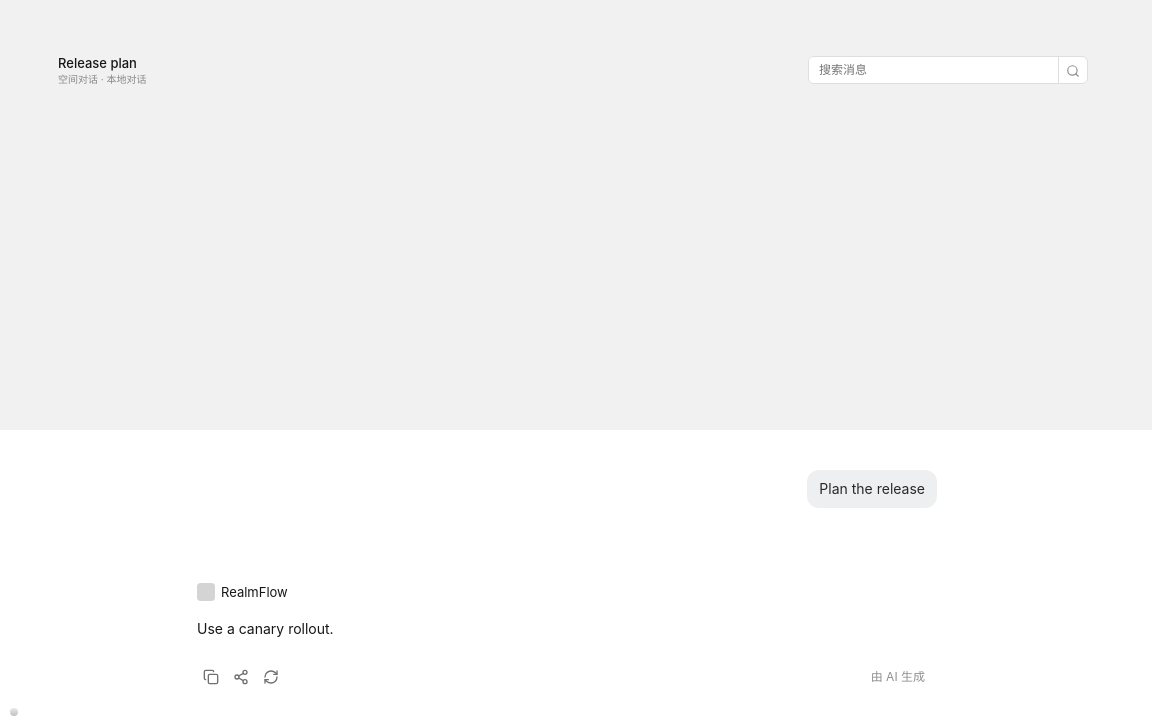
Test: conversation image sharing › shows a recoverable error when image generation fails
(page scrolled)
Click the button named "分享回答" at point(241, 677), box [227, 663, 255, 691]
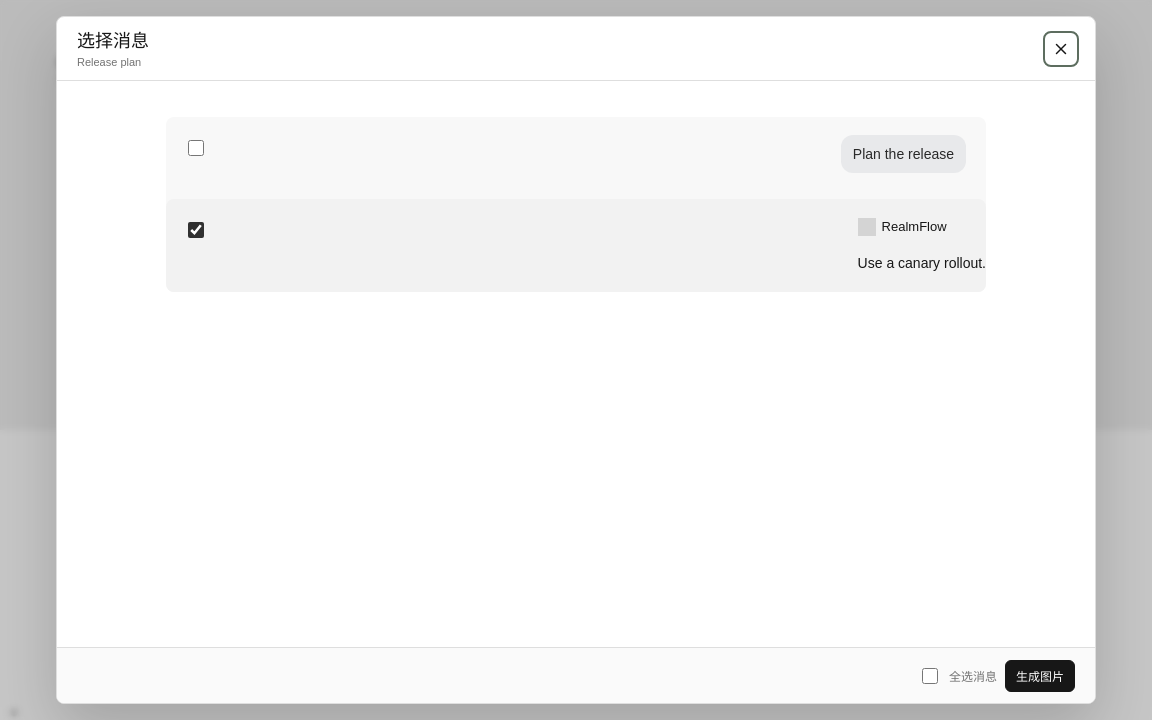
Click the button "生成图片" at point(1040, 676), box [1005, 660, 1075, 692]
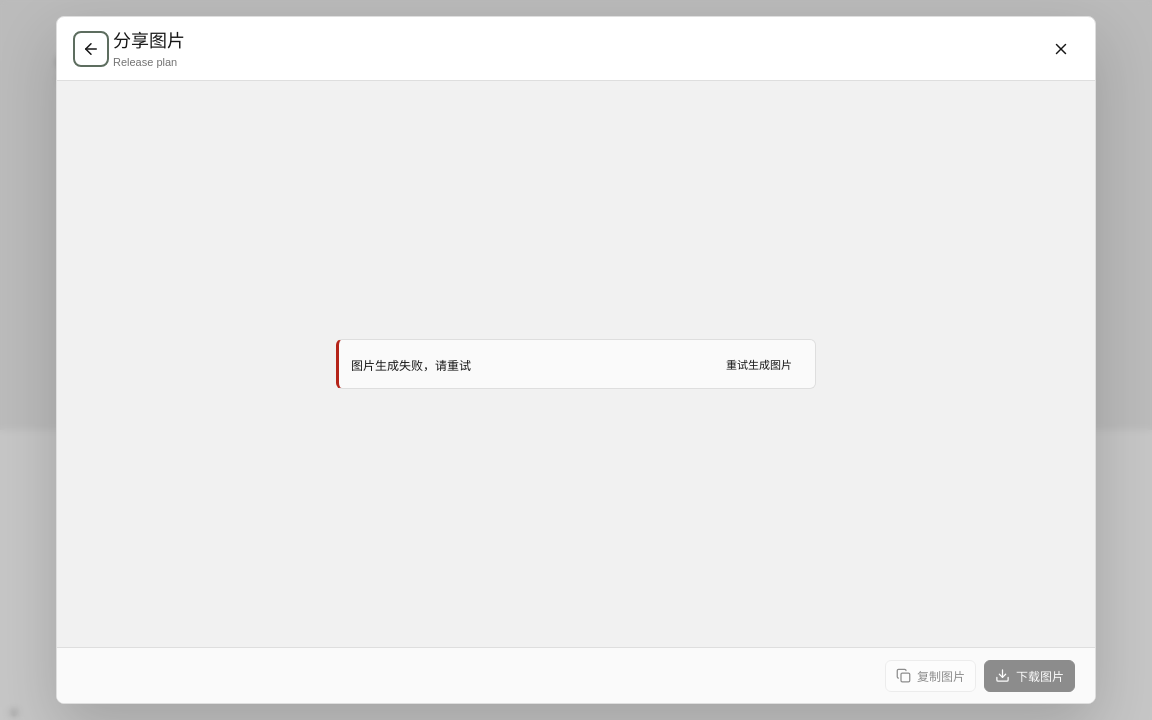
Expected: the message shows "图片生成失败，请重试", [351, 359, 471, 373]
Expected: the button "重试生成图片" is enabled, [715, 350, 803, 378]
